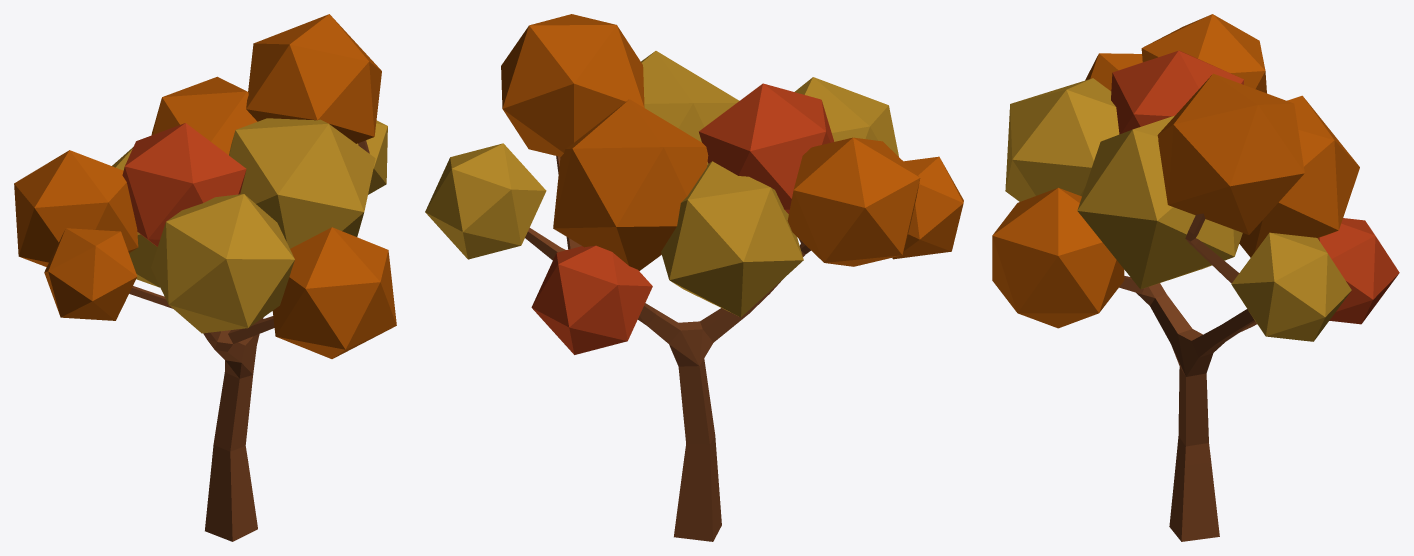
File: clumpTree.fbx
The picture shows the model from 3 angles, left to right: view 1: azimuth 30°, elevation 25°; view 2: azimuth 150°, elevation 25°; view 3: azimuth 270°, elevation 25°; orthographic projection. The views are drawn at different scales.
Parts seen in each view (by area): view 1: Cube; view 2: Cube; view 3: Cube.
Part boxes in pixels (bbox=[...]): Cube: bbox=[14, 14, 396, 541]; Cube: bbox=[425, 14, 963, 541]; Cube: bbox=[992, 14, 1399, 541].
Size of the model in its own units: 739 by 799 by 598.
